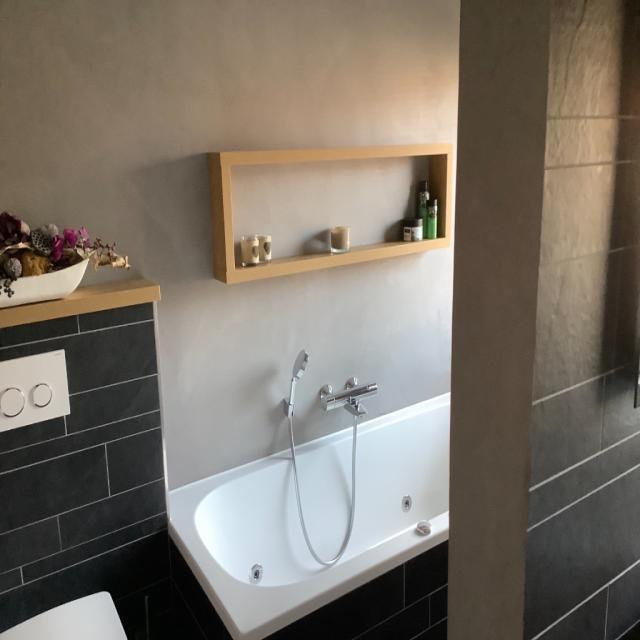bath: (168, 377, 452, 640)
douche: (447, 0, 640, 640)
toilet: (0, 347, 129, 640)
